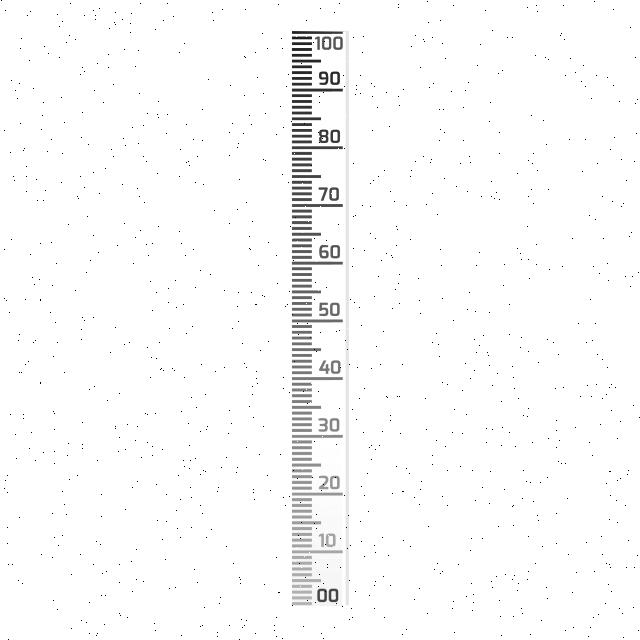10: (318, 533, 339, 548), (314, 35, 333, 51)
20: (317, 474, 341, 491)
30: (317, 417, 341, 433)
40: (318, 358, 341, 376)
50: (318, 302, 341, 316)
60: (318, 244, 341, 259)
70: (318, 186, 340, 202)
80: (318, 129, 341, 144)
90: (318, 70, 341, 86)
staff: (292, 28, 347, 605)
